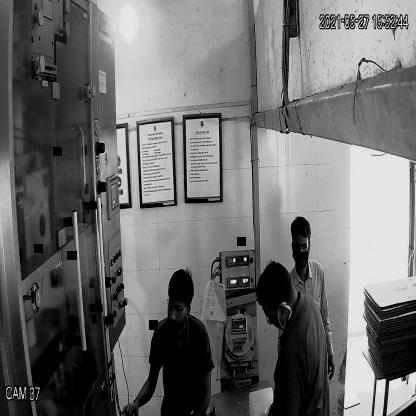goggles: (164, 293, 192, 318)
no_goggles: (288, 239, 313, 254)
